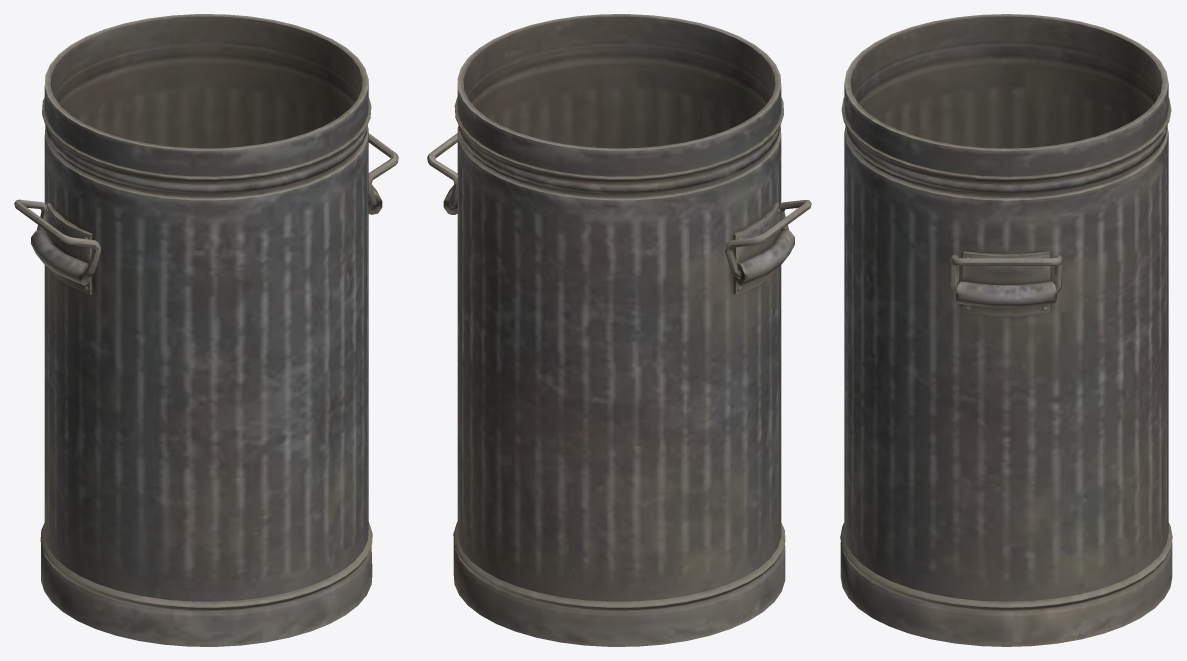
Rendered from bin_metal.glb.
3 renders of one model, left to right at view 1: azimuth 30°, elevation 25°; view 2: azimuth 150°, elevation 25°; view 3: azimuth 270°, elevation 25°, orthographic.
Parts seen in each view (by area): view 1: bin_metal; view 2: bin_metal; view 3: bin_metal.
Part boxes in pixels (bbox=[...]): bin_metal: bbox=[14, 14, 398, 646]; bin_metal: bbox=[427, 14, 811, 646]; bin_metal: bbox=[840, 14, 1172, 646].
Size of the model in its own units: 0.6495 by 0.9062 by 0.5524.
Materials: 1 (1 with a texture image).
